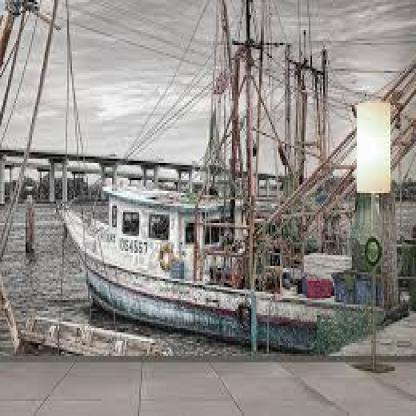fish-b: (42, 167, 392, 365)
